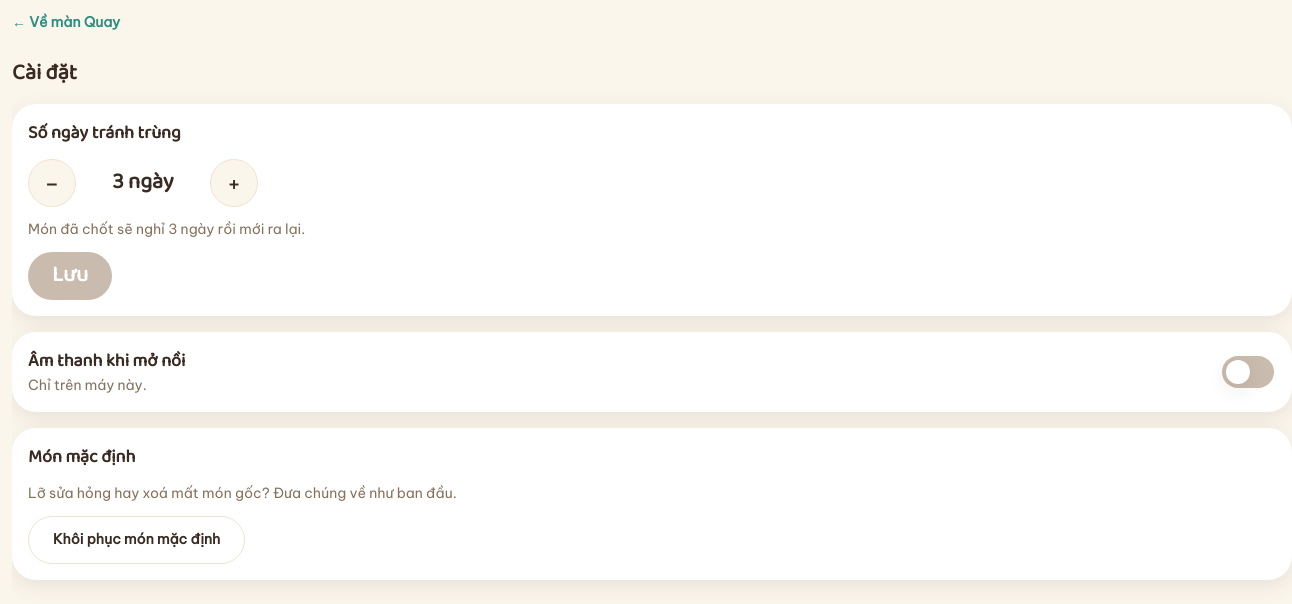
SettingsScreen › đang lưu thì khoá cả − + Lưu
Click the button named "Thêm một ngày": (234, 182) x1=210 y1=158 x2=258 y2=206
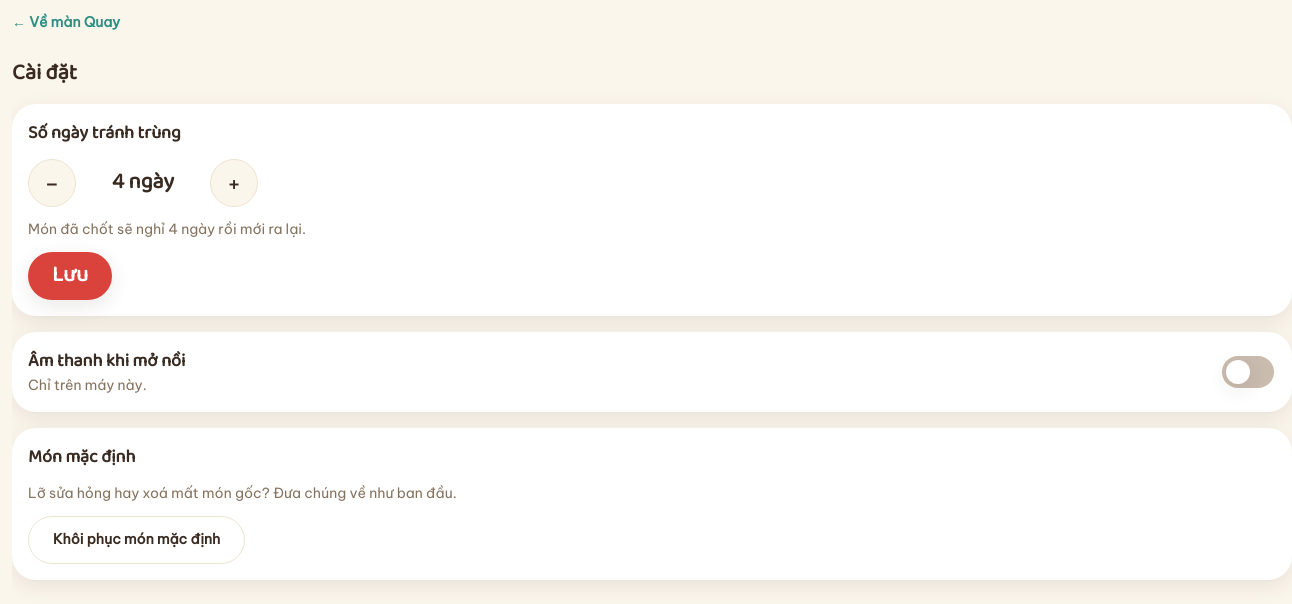
Click the button named "Bớt một ngày": (52, 182) x1=28 y1=158 x2=76 y2=206
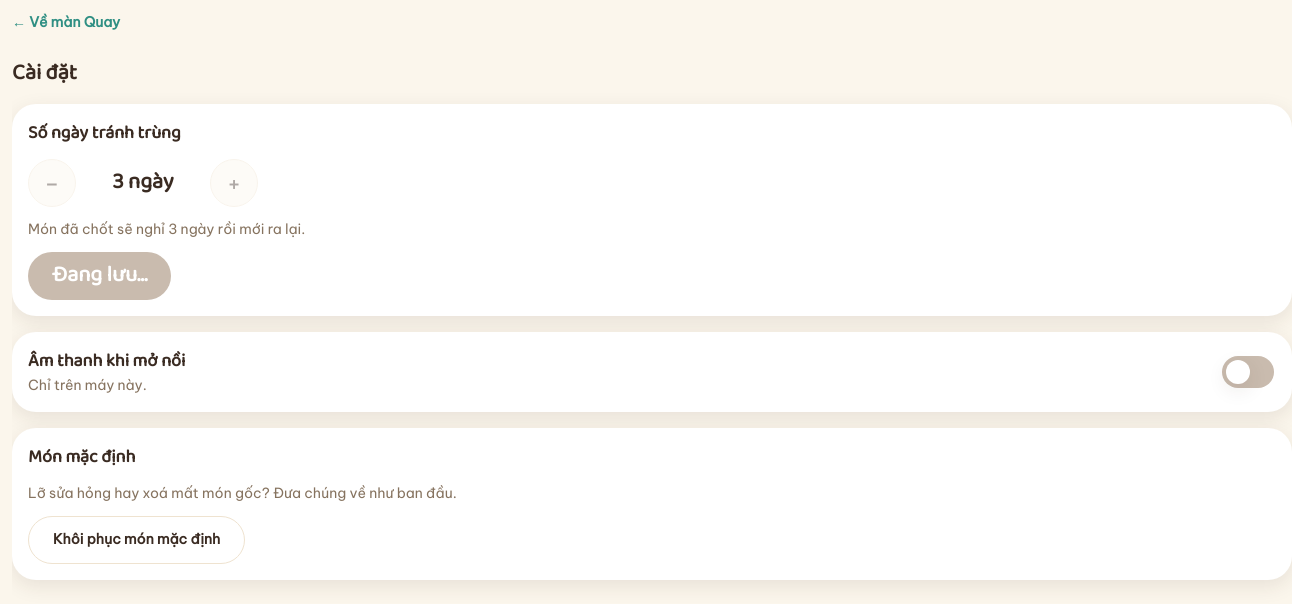
Expected: the button named "Thêm một ngày" is disabled, x1=210 y1=158 x2=258 y2=206
Expected: the button "Đang lưu…" is disabled, x1=28 y1=252 x2=171 y2=300
